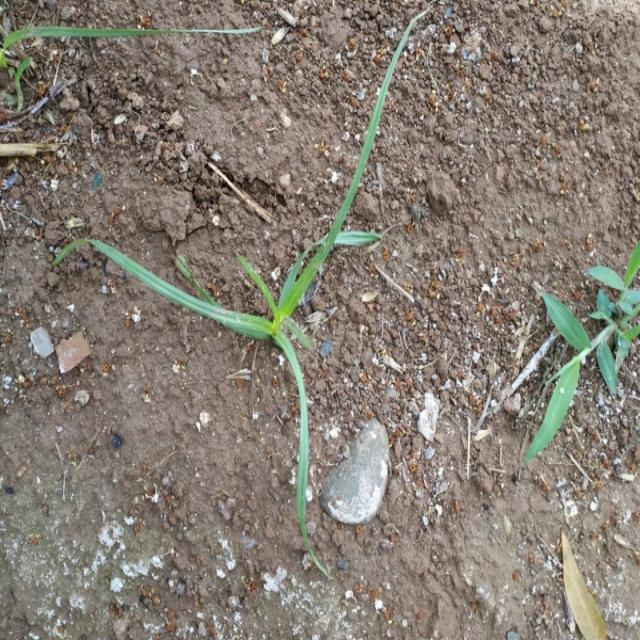sedge: (68, 90, 442, 532)
